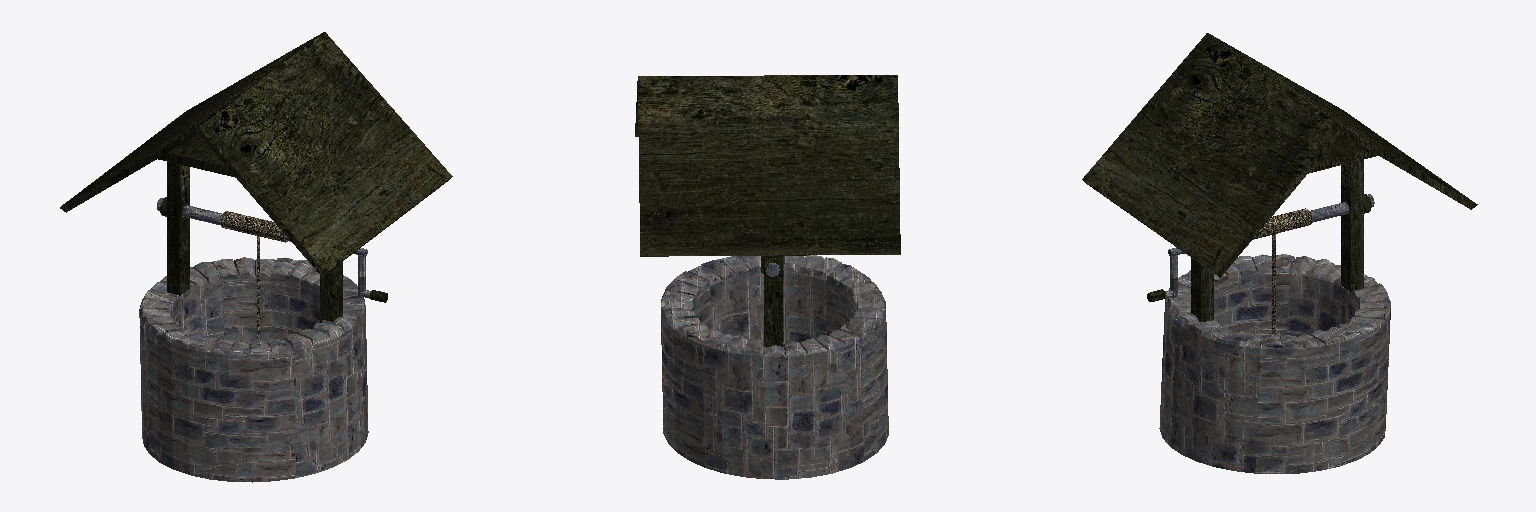
The picture shows the model from 3 angles: view 1: azimuth 30°, elevation 25°; view 2: azimuth 150°, elevation 25°; view 3: azimuth 270°, elevation 25°; orthographic projection.
Parts seen in each view (by area): view 1: Model_0; view 2: Model_0; view 3: Model_0.
Part boxes in pixels (left/top/right/bottom): Model_0: left=60, top=32, right=452, bottom=482; Model_0: left=635, top=75, right=900, bottom=479; Model_0: left=1082, top=33, right=1477, bottom=473.
Size of the model in its own units: 4.65 by 4.79 by 4.84.
4 materials, 4 textured.